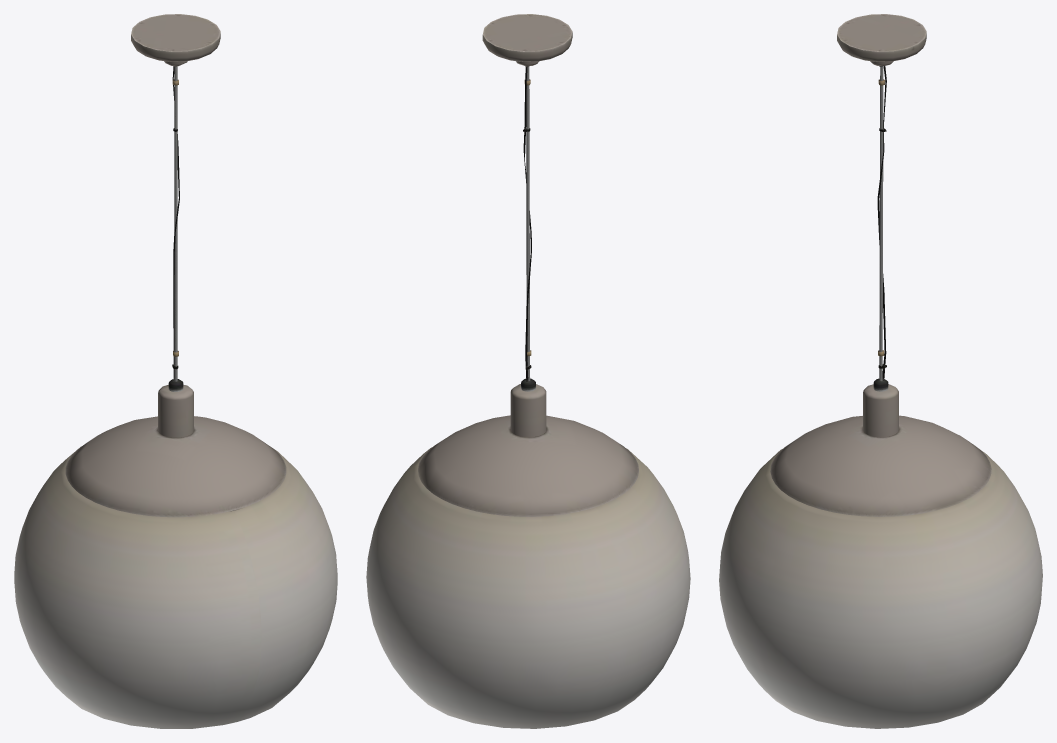
File: modern_ceiling_lamp_01.glb
3 views of the same model, side by side, from view 1: azimuth 30°, elevation 25°; view 2: azimuth 150°, elevation 25°; view 3: azimuth 270°, elevation 25° (orthographic).
Parts seen in each view (by area): view 1: modern_ceiling_lamp_01; view 2: modern_ceiling_lamp_01; view 3: modern_ceiling_lamp_01.
Boxes of the visible parts, x1,y1,x2,y2 form: modern_ceiling_lamp_01: [14, 14, 337, 728]; modern_ceiling_lamp_01: [366, 14, 690, 728]; modern_ceiling_lamp_01: [719, 14, 1042, 728].
Bounding box in the file's own units: 0.4316 × 0.9512 × 0.4316.
2 materials, 2 textured.
